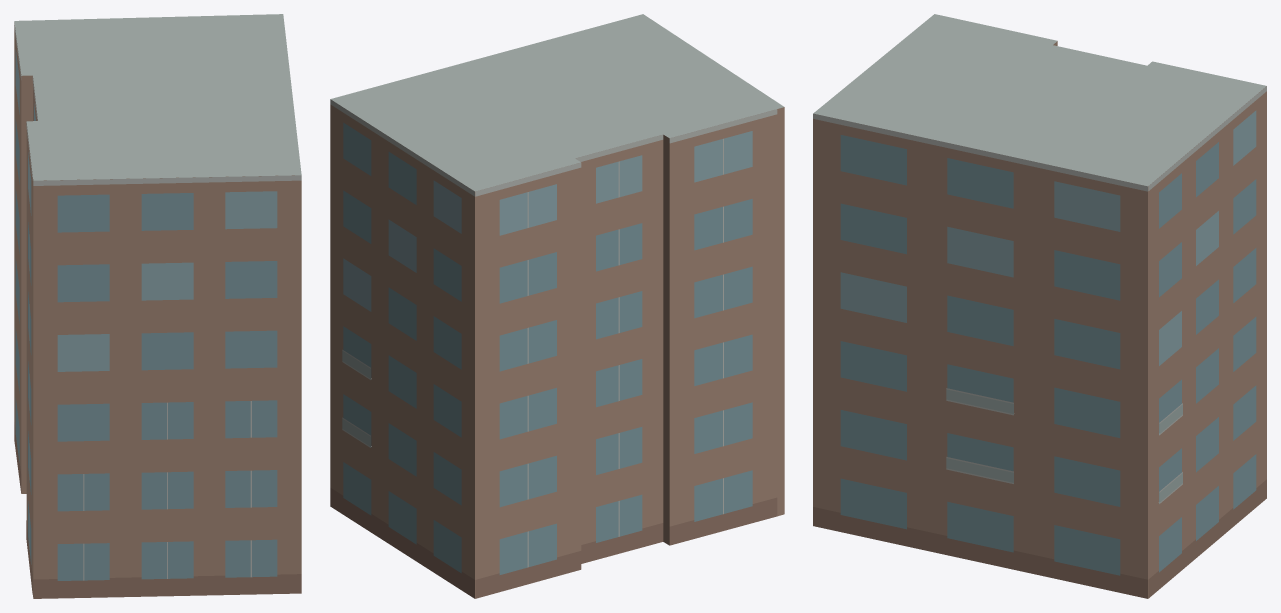
The model's file is survey-upis-32885572.glb.
3 renders of one model, left to right at view 1: azimuth 30°, elevation 25°; view 2: azimuth 150°, elevation 25°; view 3: azimuth 270°, elevation 25°, orthographic. The views are drawn at different scales.
Parts seen in each view (by area): view 1: survey-upis-32885572.tmp; view 2: survey-upis-32885572.tmp; view 3: survey-upis-32885572.tmp.
Part boxes in pixels (box(x1,y1,x2,y2)): survey-upis-32885572.tmp: box(14, 14, 301, 598); survey-upis-32885572.tmp: box(330, 14, 784, 598); survey-upis-32885572.tmp: box(813, 14, 1266, 598).
Bounding box in the file's own units: 17.08 × 19.05 × 19.
